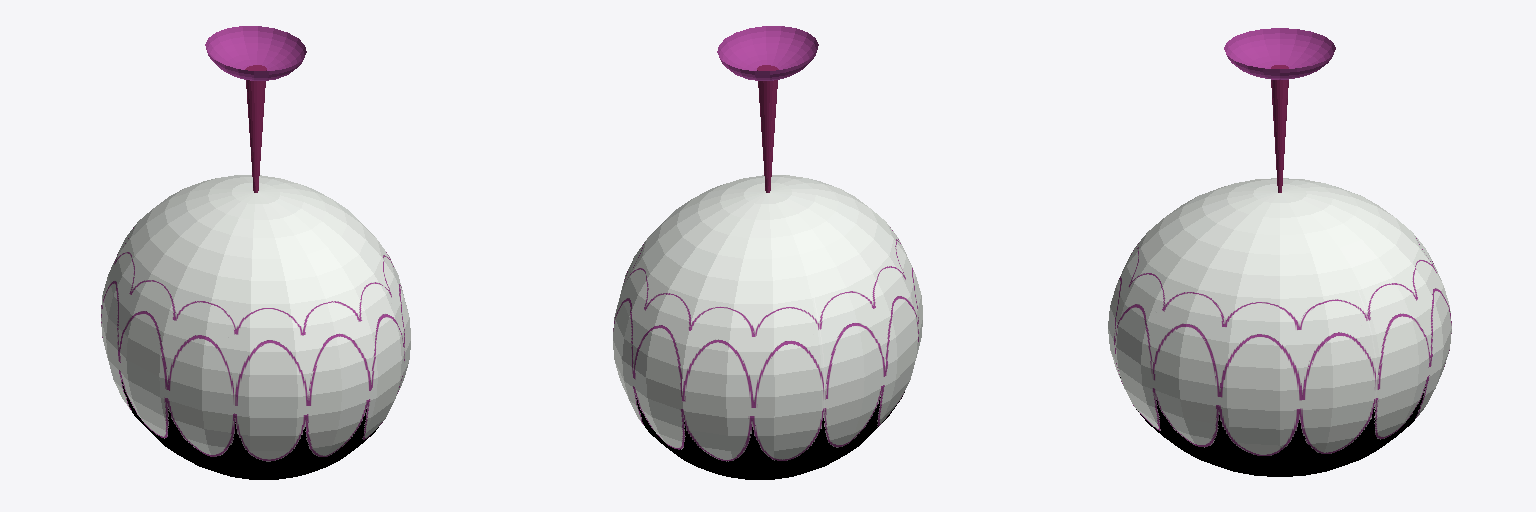
3 views of the same model, side by side, from view 1: azimuth 30°, elevation 25°; view 2: azimuth 150°, elevation 25°; view 3: azimuth 270°, elevation 25° (orthographic).
Visible parts, largest first — view 1: pSphere2, polySurface2 pSphere3, pCone1; view 2: pSphere2, polySurface2 pSphere3, pCone1; view 3: pSphere2, polySurface2 pSphere3, pCone1.
Boxes of the visible parts, x1,y1,x2,y2 form: pSphere2: [101, 175, 410, 479]; polySurface2 pSphere3: [205, 26, 306, 80]; pCone1: [245, 65, 266, 192]; pSphere2: [613, 175, 922, 479]; polySurface2 pSphere3: [717, 26, 818, 80]; pCone1: [757, 65, 778, 192]; pSphere2: [1108, 178, 1451, 476]; polySurface2 pSphere3: [1224, 28, 1335, 79]; pCone1: [1271, 65, 1288, 192].
Bounding box in the file's own units: 2 × 3.06 × 2.3.
Materials: 4 (3 with a texture image).